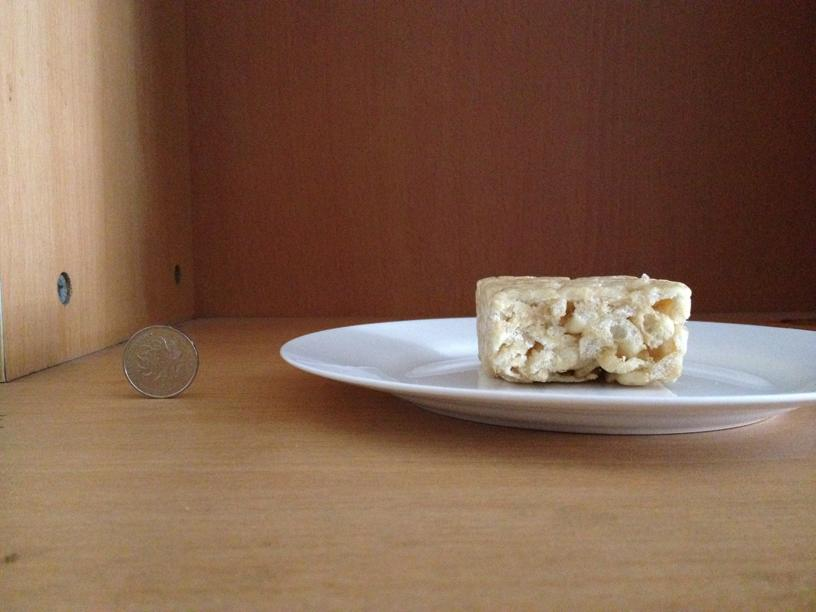coin: (121, 327, 198, 396)
sachima: (465, 272, 690, 385)
